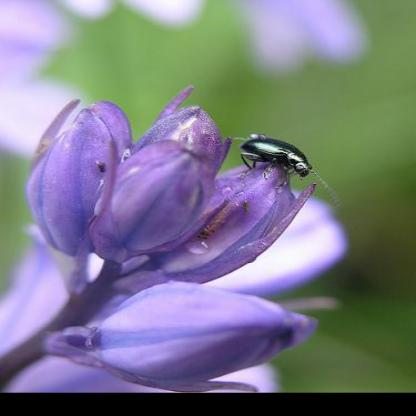beetle: (233, 120, 318, 184)
